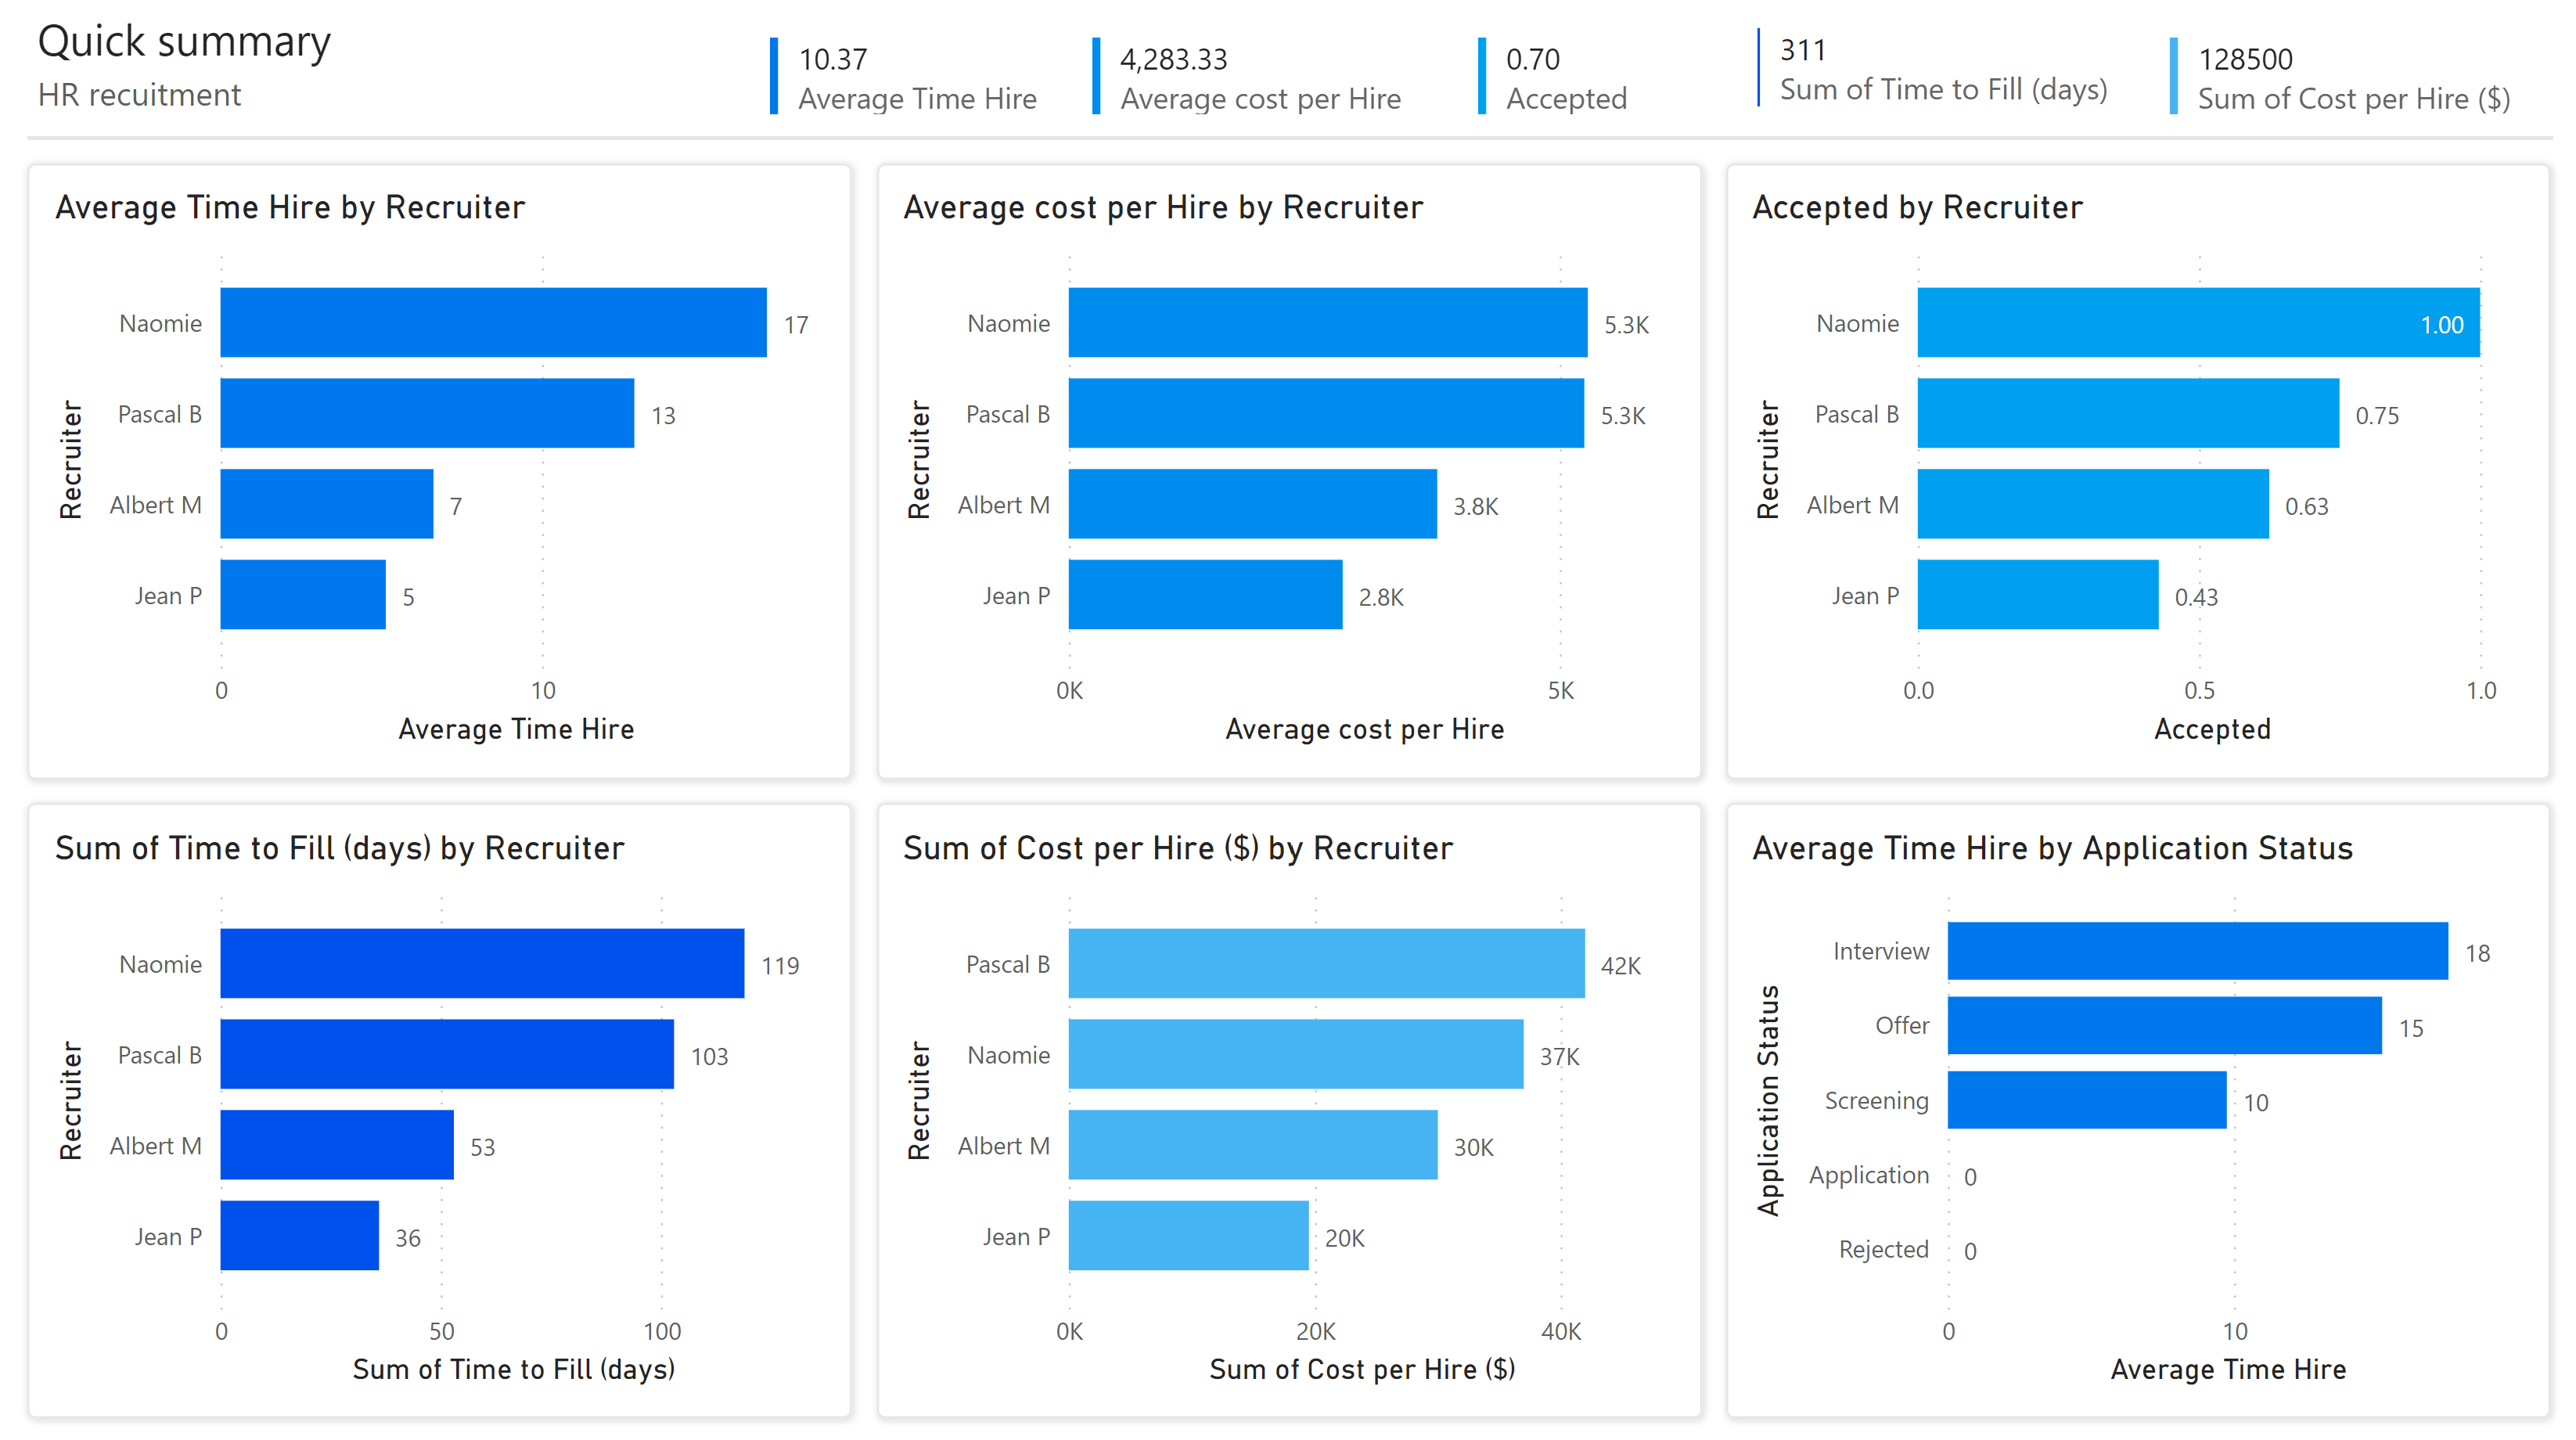

The page's visual inventory and layout, read from the dashboard file:
{"tool":"powerbi","page":{"name":"Quick View","canvas":[1280,720],"ordinal":2},"visuals":[{"type":"shape","box":[12,58,1256,26],"z":0},{"type":"shape","box":[12,84,410,306],"z":1000},{"type":"shape","box":[434,84,410,306],"z":2000},{"type":"shape","box":[856,84,410,306],"z":3000},{"type":"shape","box":[12,402,410,306],"z":4000},{"type":"shape","box":[434,402,410,306],"z":5000},{"type":"shape","box":[856,402,410,306],"z":6000},{"type":"clusteredBarChart","fields":{"Category":["HR recuitment.Application Status"],"Y":["HR recuitment.Average Time Hire"]},"box":[864,414,394,282],"z":7000},{"type":"clusteredBarChart","fields":{"Category":["HR recuitment.Recruiter"],"Y":["Sum(HR recuitment.Cost per Hire ($))"]},"box":[442,414,394,282],"z":8000},{"type":"clusteredBarChart","fields":{"Category":["HR recuitment.Recruiter"],"Y":["Sum(HR recuitment.Time to Fill (days))"]},"box":[20,414,394,282],"z":9000},{"type":"clusteredBarChart","fields":{"Category":["HR recuitment.Recruiter"],"Y":["HR recuitment.Accepted"]},"box":[864,96,394,282],"z":10000},{"type":"clusteredBarChart","fields":{"Category":["HR recuitment.Recruiter"],"Y":["HR recuitment.Average cost per Hire"]},"box":[442,96,394,282],"z":11000},{"type":"clusteredBarChart","fields":{"Category":["HR recuitment.Recruiter"],"Y":["HR recuitment.Average Time Hire"]},"box":[20,96,394,282],"z":12000},{"type":"multiRowCard","fields":{"Values":["Sum(HR recuitment.Cost per Hire ($))"]},"box":[1072,16,184,48],"z":13000},{"type":"multiRowCard","fields":{"Values":["Sum(HR recuitment.Time to Fill (days))"]},"box":[864,11.9,196.6,50.3],"z":14000},{"type":"multiRowCard","fields":{"Values":["HR recuitment.Accepted"]},"box":[728,16,144,48],"z":15000},{"type":"multiRowCard","fields":{"Values":["HR recuitment.Average cost per Hire"]},"box":[536,16,176,48],"z":16000},{"type":"multiRowCard","fields":{"Values":["HR recuitment.Average Time Hire"]},"box":[376,16,144,48],"z":17000},{"type":"textbox","box":[12,33,306,32],"z":18000},{"type":"textbox","box":[12,2,306,39],"z":19000}]}

Visuals, with their boxes in screenshot pixels (x1, y1, x2, y2), scaled from the page's 1280x720 canvas onto the 2576x1440 screenshot:
shape: detection(24, 116, 2552, 168)
shape: detection(24, 168, 849, 780)
shape: detection(873, 168, 1699, 780)
shape: detection(1723, 168, 2548, 780)
shape: detection(24, 804, 849, 1416)
shape: detection(873, 804, 1699, 1416)
shape: detection(1723, 804, 2548, 1416)
clusteredBarChart - HR recuitment.Application Status x HR recuitment.Average Time Hire: detection(1739, 828, 2531, 1392)
clusteredBarChart - HR recuitment.Recruiter x Sum(HR recuitment.Cost per Hire ($)): detection(890, 828, 1682, 1392)
clusteredBarChart - HR recuitment.Recruiter x Sum(HR recuitment.Time to Fill (days)): detection(40, 828, 833, 1392)
clusteredBarChart - HR recuitment.Recruiter x HR recuitment.Accepted: detection(1739, 192, 2531, 756)
clusteredBarChart - HR recuitment.Recruiter x HR recuitment.Average cost per Hire: detection(890, 192, 1682, 756)
clusteredBarChart - HR recuitment.Recruiter x HR recuitment.Average Time Hire: detection(40, 192, 833, 756)
multiRowCard - Sum(HR recuitment.Cost per Hire ($)): detection(2157, 32, 2527, 128)
multiRowCard - Sum(HR recuitment.Time to Fill (days)): detection(1739, 23, 2135, 124)
multiRowCard - HR recuitment.Accepted: detection(1465, 32, 1755, 128)
multiRowCard - HR recuitment.Average cost per Hire: detection(1079, 32, 1433, 128)
multiRowCard - HR recuitment.Average Time Hire: detection(757, 32, 1046, 128)
textbox: detection(24, 66, 640, 130)
textbox: detection(24, 4, 640, 82)
